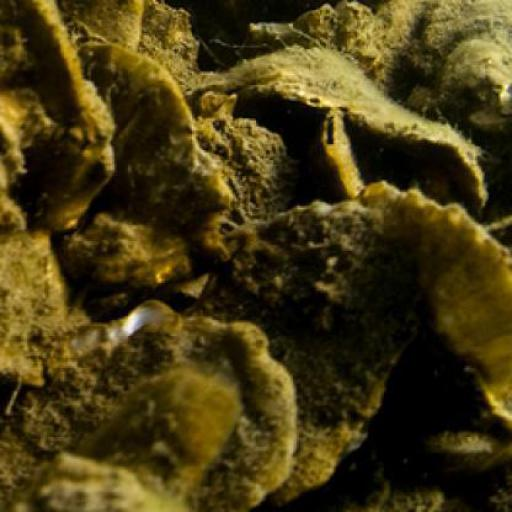Oyster-Closed: (190, 200, 417, 504), (352, 187, 512, 497), (55, 49, 231, 307), (1, 1, 126, 241), (1, 241, 119, 391), (295, 113, 363, 200)
Oyster-Open: (1, 305, 299, 512)
